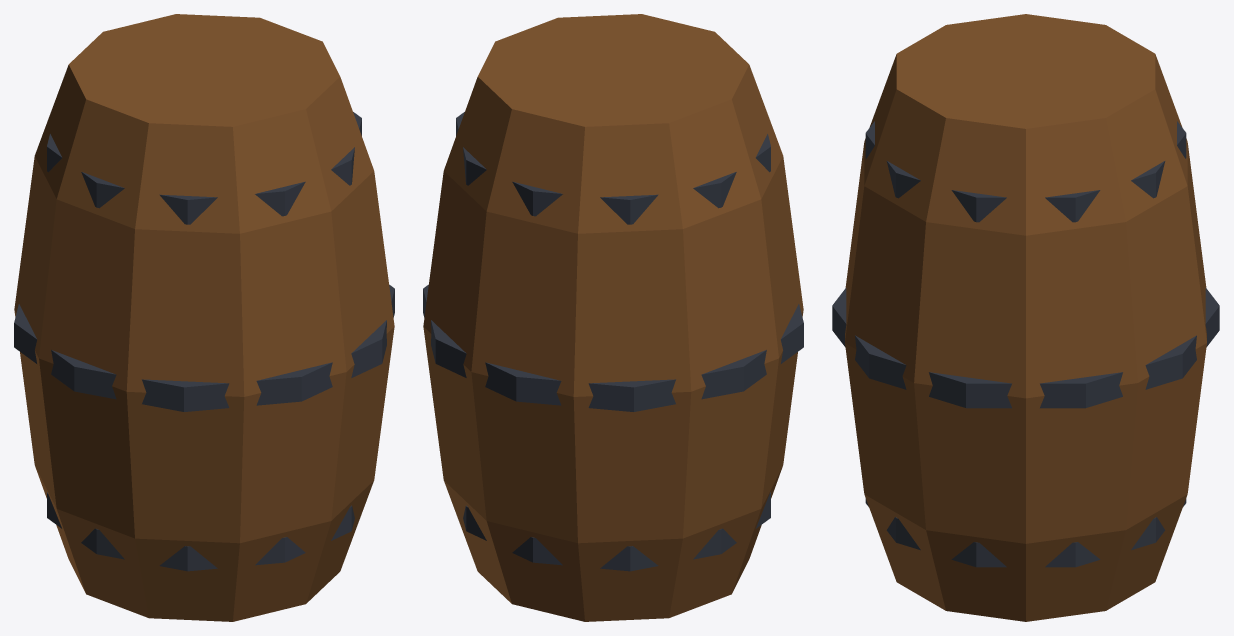
The model's file is barrel.glb.
3 views of the same model, side by side, from view 1: azimuth 30°, elevation 25°; view 2: azimuth 150°, elevation 25°; view 3: azimuth 270°, elevation 25° (orthographic).
Parts seen in each view (by area): view 1: barrel; view 2: barrel; view 3: barrel.
Part boxes in pixels (<box>): barrel: <box>14,14,394,621</box>; barrel: <box>423,14,803,621</box>; barrel: <box>832,14,1219,621</box>.
Bounding box in the file's own units: 0.56 × 0.8 × 0.57.
